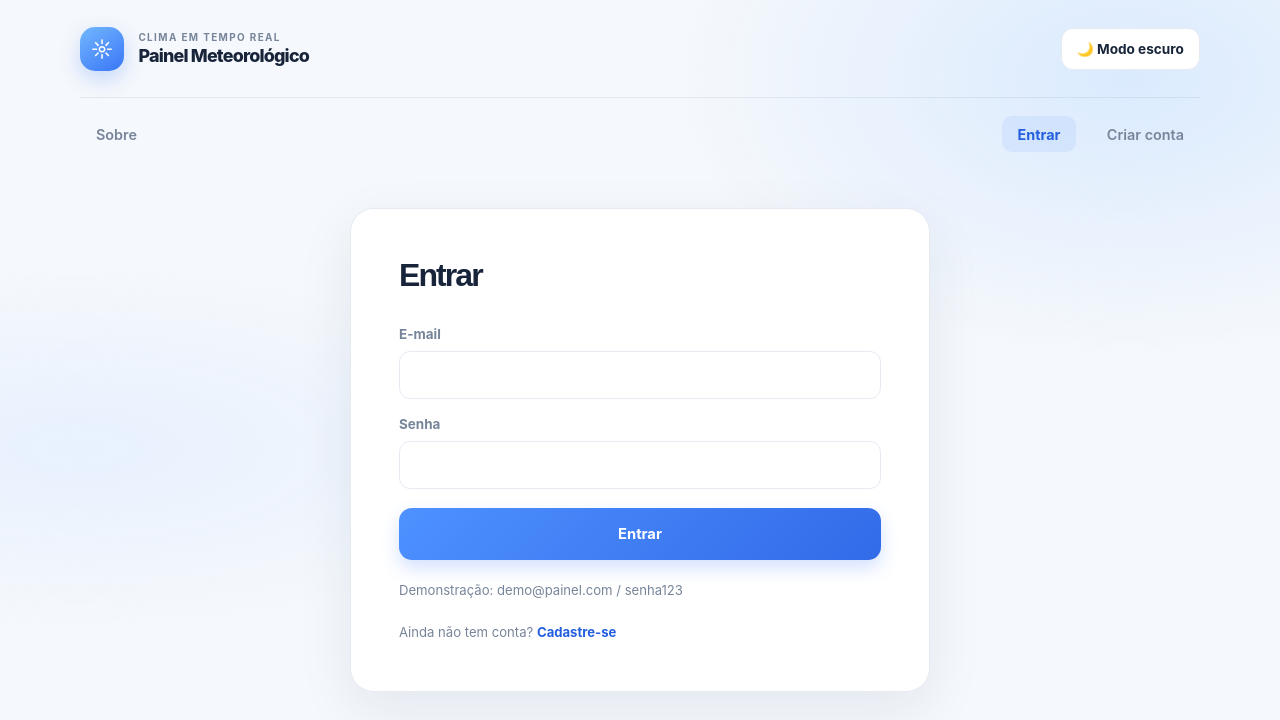
Test: Fluxo de autenticação (integração) › mostra mensagem amigável quando o servidor está inacessível
Type "demo@painel.com" into the field labelled "E-mail" at (640, 375), box [399,351,881,399]
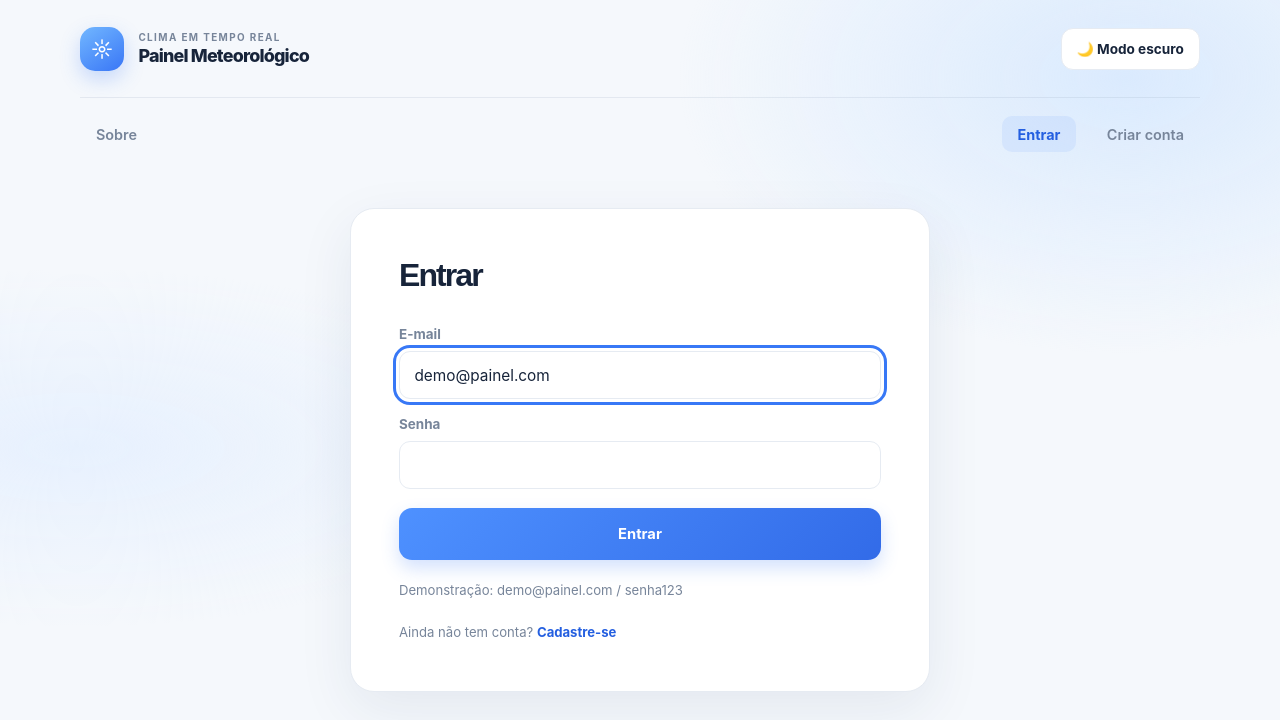
Type "senha123" into the password field labelled "Senha" at (640, 465), box [399,441,881,489]
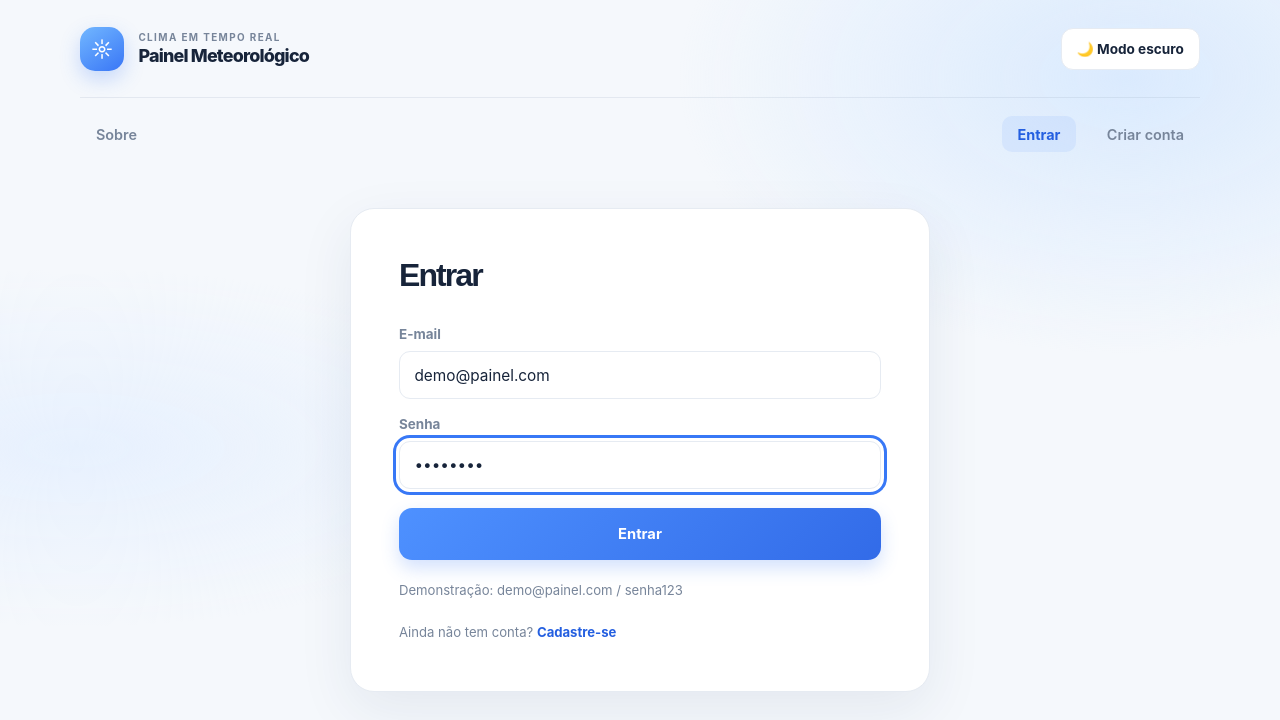
Click the button "Entrar" at (640, 534), box [399,508,881,560]
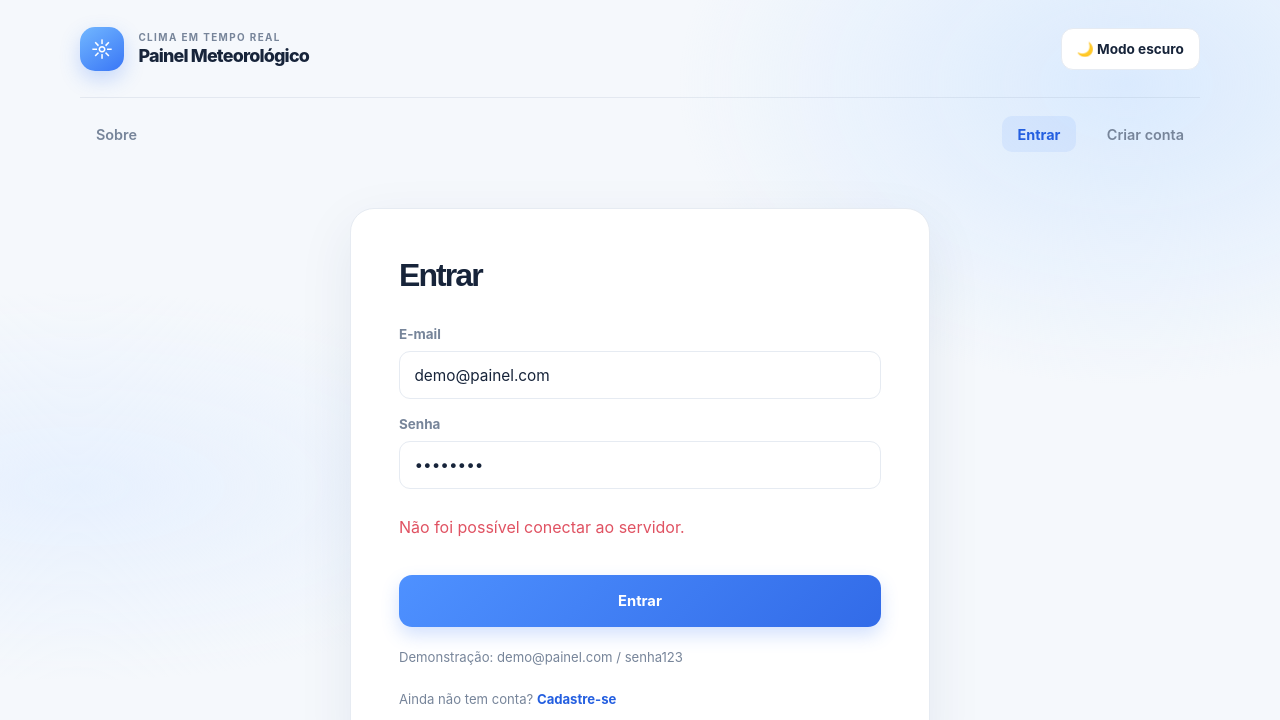
Now the message shows "Não foi possível conectar", box [399,517,685,537]
